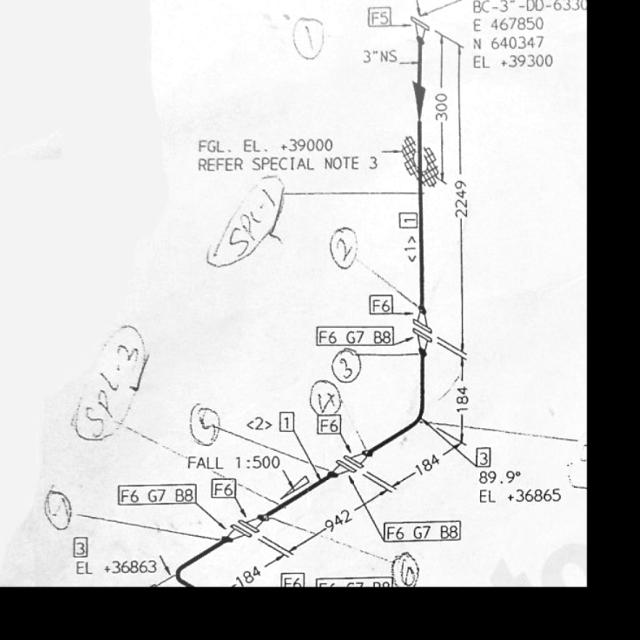Item number: (375, 518, 464, 543), (311, 323, 399, 348), (113, 481, 198, 506), (315, 577, 384, 588), (209, 475, 239, 500), (366, 291, 395, 316), (316, 413, 343, 436), (366, 5, 393, 28), (280, 570, 307, 588), (277, 409, 296, 434), (475, 444, 493, 469), (398, 209, 418, 231), (72, 535, 89, 558), (76, 559, 90, 575)
Measrement: (283, 485, 394, 556), (450, 37, 467, 370), (386, 432, 467, 494), (183, 450, 287, 475), (435, 34, 450, 187), (225, 551, 293, 584), (449, 351, 471, 450), (87, 556, 161, 578), (476, 466, 524, 490), (360, 46, 400, 66)
Pipeline: (164, 37, 430, 589), (412, 89, 429, 350)
Symbol: (329, 445, 372, 481), (222, 514, 266, 545), (408, 313, 437, 360), (408, 13, 435, 48)
Weld number: (290, 14, 326, 64), (185, 402, 222, 449), (306, 376, 344, 419), (328, 224, 360, 272), (41, 489, 72, 534), (328, 348, 363, 386), (388, 550, 421, 586), (402, 134, 419, 181)
other: (191, 130, 385, 175), (470, 1, 587, 74), (476, 465, 566, 508), (360, 45, 400, 67)
